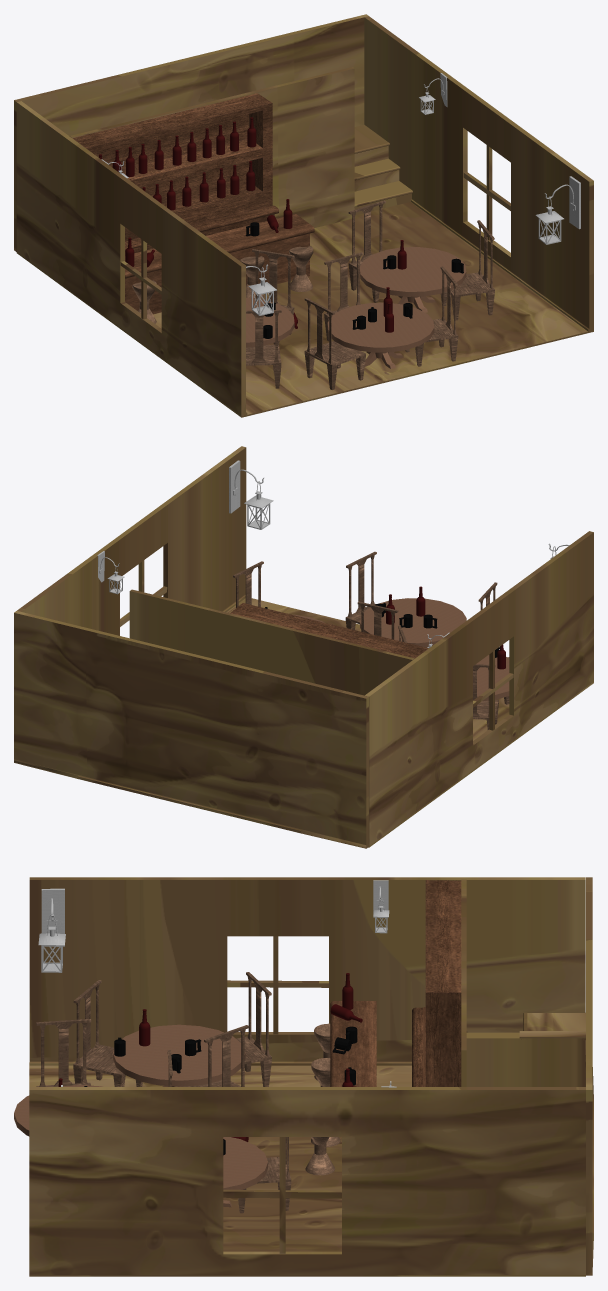
File: Final product.obj
3 views of the same model, one above another, from view 1: azimuth 30°, elevation 25°; view 2: azimuth 150°, elevation 25°; view 3: azimuth 270°, elevation 25° (orthographic). The views are drawn at different scales.
Visible parts, largest first — view 1: pCube25, Tavern_Liquor_shelf:Tavern_bar:pCube1, Tavern_bar:pCube1, pCube26, Tavern_table:pCube7, pCube28, pCube8, pCube27, pCube31, pCube7, Chair_New_and_Improved:pCube8, pCube29 (+5 smaller); view 2: pCube25, pCube26, Tavern_Liquor_shelf:Tavern_bar:pCube1, pCube27, pCube7, pCylinder3, pCube32, sweep3, pCube8, pCube29; view 3: pCube25, Tavern_Liquor_shelf:Tavern_bar:pCube1, pCube7, Tavern_bar:pCube1, pCube31, Tavern_table:pCube7, pCube32, pCube28, pCube30, Hanging_lantern:sweep3, pCylinder4, Chair_New_and_Improved:pCube8 (+2 smaller).
Boxes of the visible parts, left/top/right/bottom form: pCube25: left=14, top=14, right=593, bottom=417; Tavern_Liquor_shelf:Tavern_bar:pCube1: left=72, top=93, right=278, bottom=255; Tavern_bar:pCube1: left=125, top=214, right=314, bottom=314; pCube26: left=327, top=302, right=434, bottom=368; Tavern_table:pCube7: left=359, top=247, right=466, bottom=312; pCube28: left=304, top=298, right=365, bottom=389; pCube8: left=440, top=220, right=494, bottom=320; pCube27: left=405, top=266, right=458, bottom=366; pCube31: left=246, top=310, right=281, bottom=388; pCube7: left=246, top=297, right=294, bottom=347; Chair_New_and_Improved:pCube8: left=348, top=200, right=385, bottom=302; pCube29: left=324, top=252, right=363, bottom=341; pCube25: left=14, top=446, right=593, bottom=848; pCube26: left=360, top=598, right=466, bottom=647; Tavern_Liquor_shelf:Tavern_bar:pCube1: left=230, top=603, right=428, bottom=658; pCube27: left=345, top=551, right=376, bottom=629; pCube7: left=476, top=655, right=509, bottom=701; pCylinder3: left=244, top=481, right=273, bottom=529; pCube32: left=473, top=664, right=498, bottom=729; sweep3: left=229, top=460, right=264, bottom=513; pCube8: left=233, top=561, right=263, bottom=607; pCube29: left=357, top=601, right=398, bottom=639; pCube25: left=29, top=877, right=593, bottom=1276; Tavern_Liquor_shelf:Tavern_bar:pCube1: left=412, top=880, right=461, bottom=1086; pCube7: left=113, top=1024, right=245, bottom=1086; Tavern_bar:pCube1: left=330, top=1001, right=376, bottom=1086; pCube31: left=73, top=980, right=142, bottom=1086; Tavern_table:pCube7: left=223, top=1137, right=267, bottom=1207; pCube32: left=236, top=972, right=271, bottom=1086; pCube28: left=36, top=1019, right=91, bottom=1086; pCube30: left=174, top=1025, right=248, bottom=1086; Hanging_lantern:sweep3: left=41, top=888, right=64, bottom=946; pCylinder4: left=38, top=914, right=65, bottom=972; Chair_New_and_Improved:pCube8: left=238, top=1137, right=291, bottom=1213.
Size of the model in its own units: 38 by 15.82 by 43.78.
